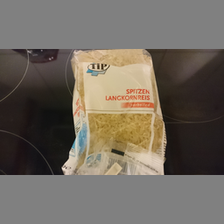rice: (60, 48, 168, 175)
